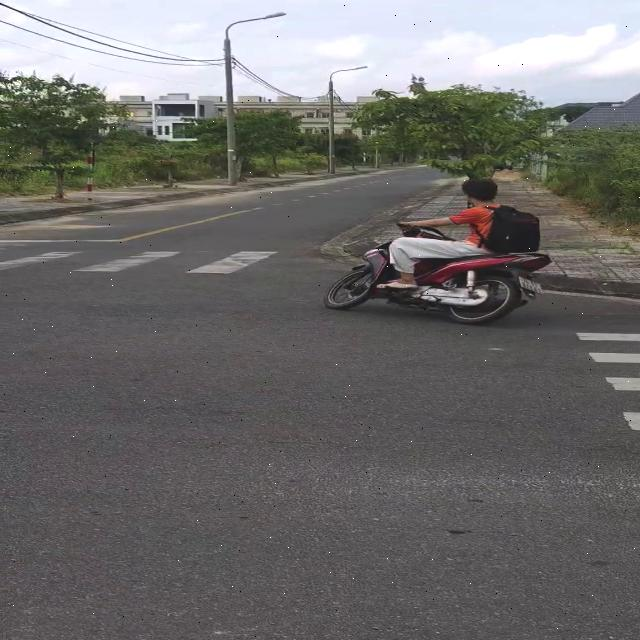no_helmet: (464, 174, 500, 209)
